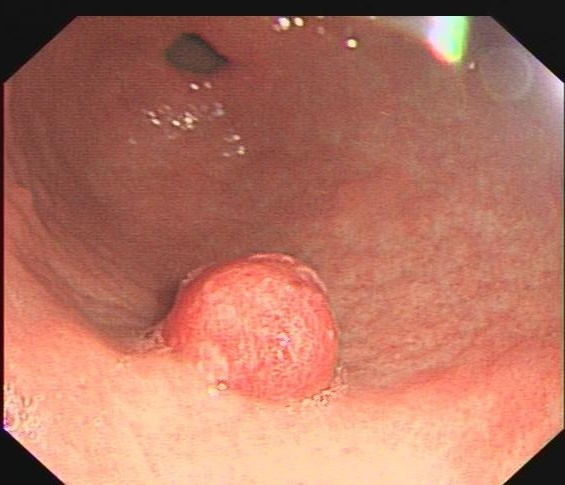Polyp: (157, 242, 360, 409)
